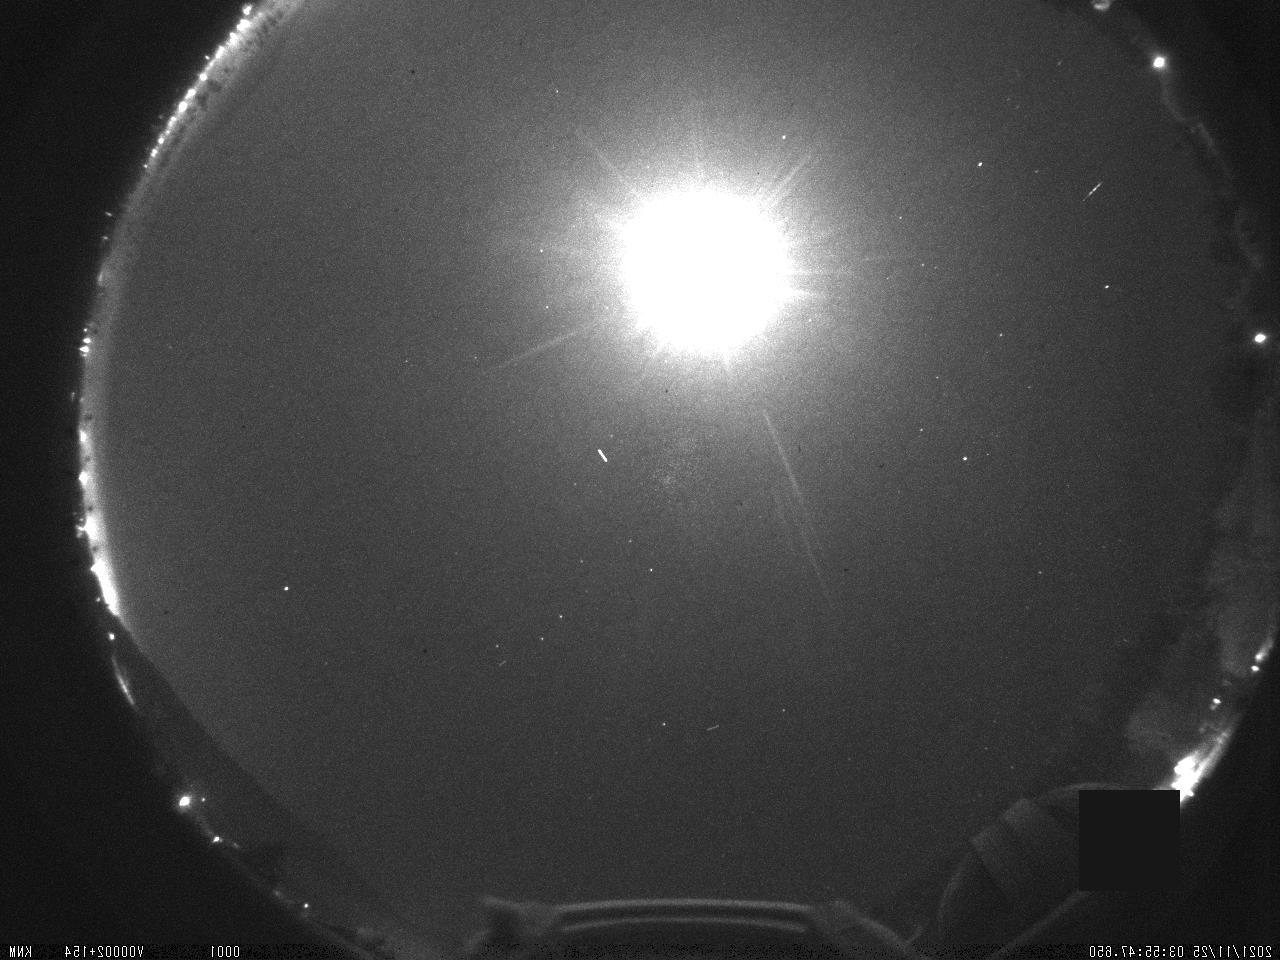meteor: (1076, 175, 1112, 211)
